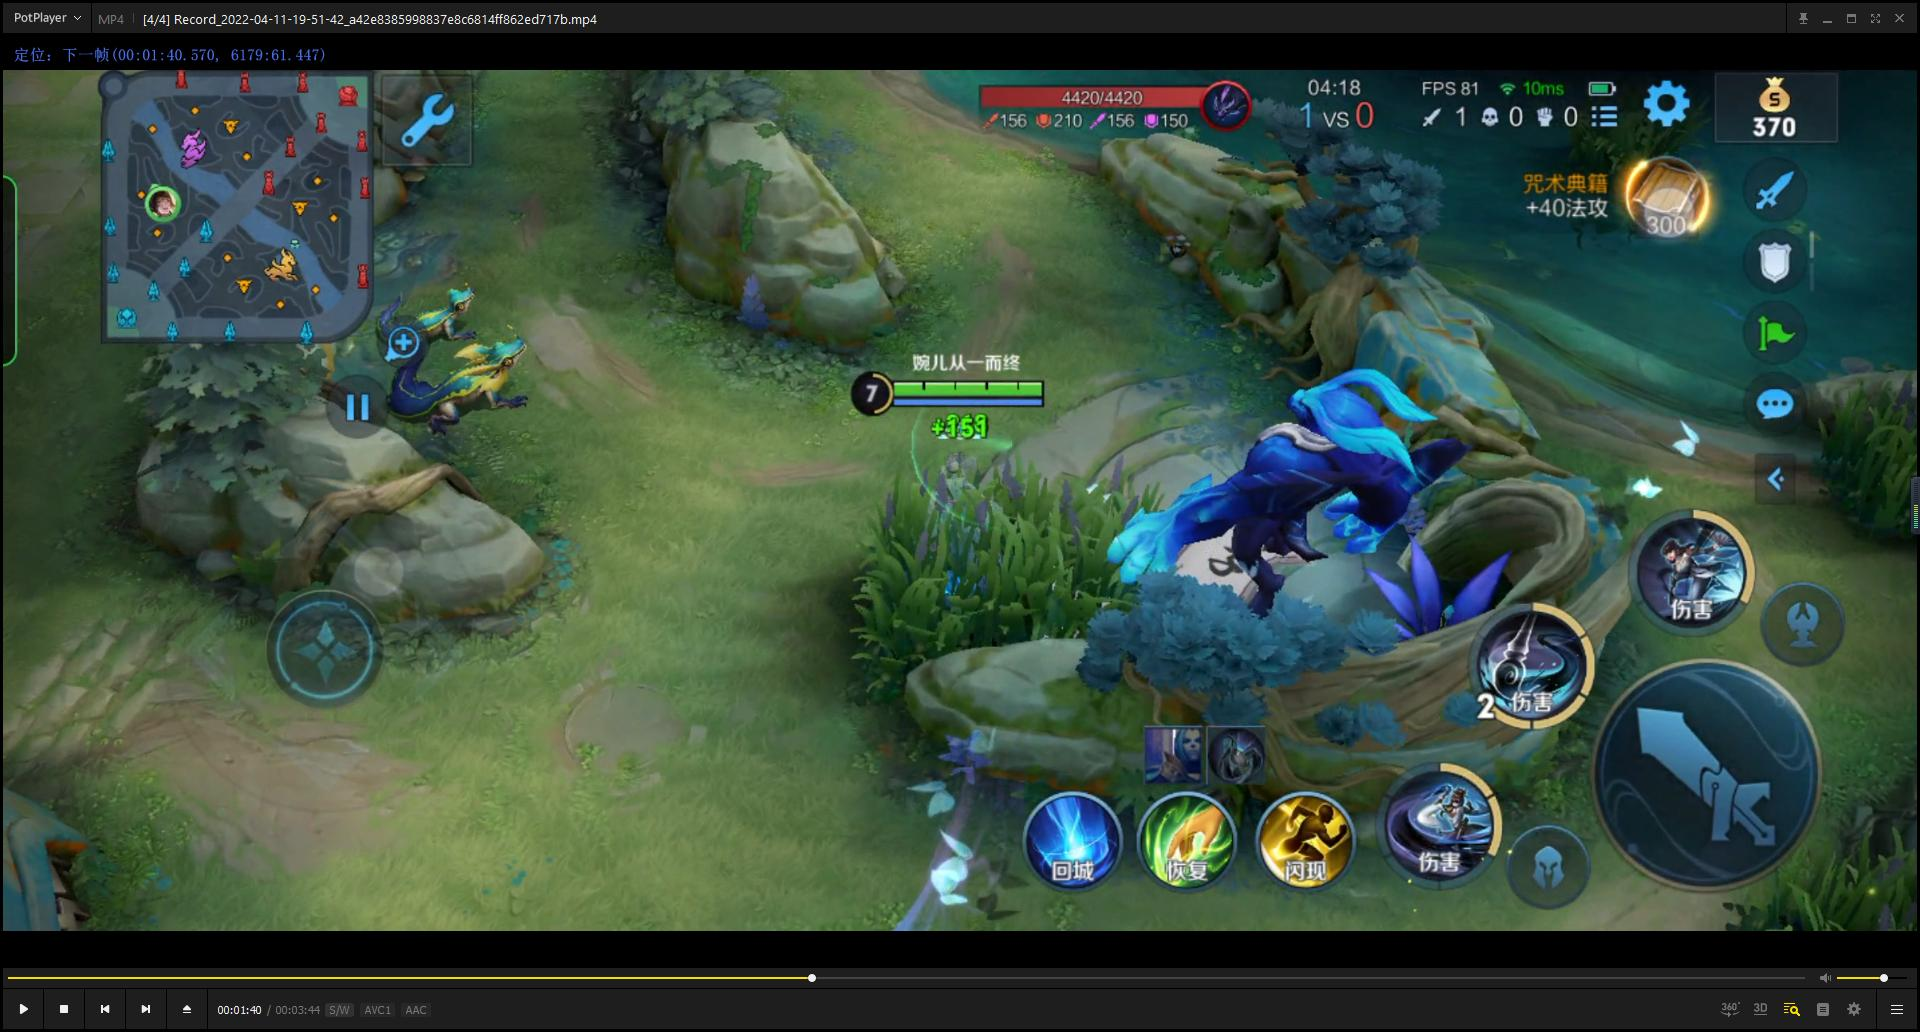Buff: (1067, 332, 1442, 658)
Hero: (842, 412, 1069, 616)
Lizard: (370, 336, 543, 432), (372, 267, 482, 363)
